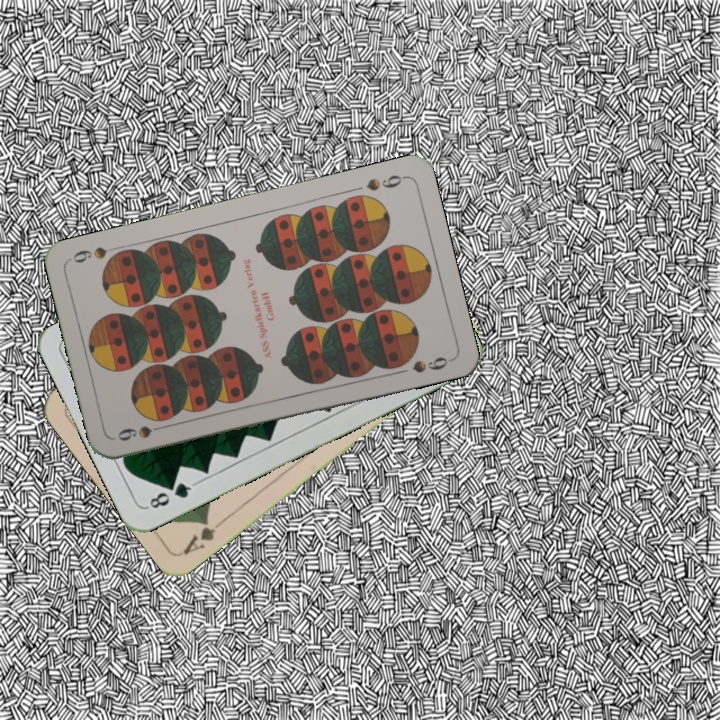G8: (143, 478, 198, 512)
GA: (178, 514, 228, 558)
S9: (113, 420, 171, 444), (362, 171, 409, 194)
